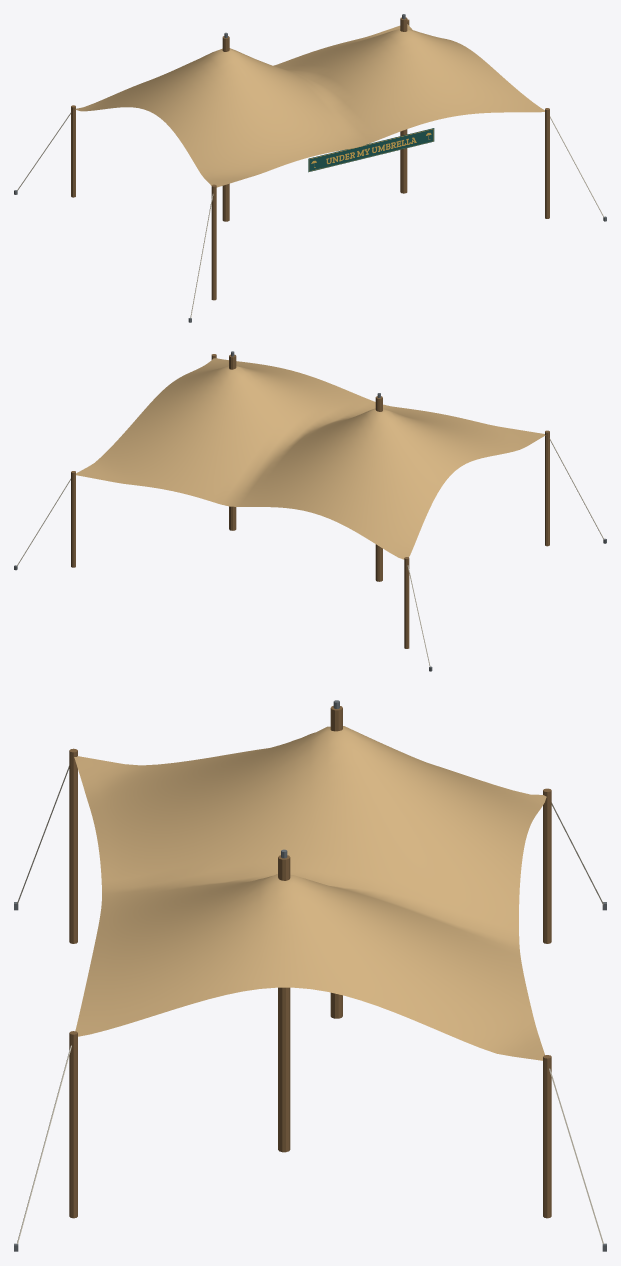
The model's file is lwf_stretch_tent_v1.glb.
3 views of the same model, one above another, from view 1: azimuth 30°, elevation 25°; view 2: azimuth 150°, elevation 25°; view 3: azimuth 270°, elevation 25° (orthographic). The views are drawn at different scales.
Parts seen in each view (by area): view 1: LWF_StretchTent_Sail, LWF_StretchTent_Frame, LWF_StretchTent_Banner; view 2: LWF_StretchTent_Sail, LWF_StretchTent_Frame; view 3: LWF_StretchTent_Sail, LWF_StretchTent_Frame.
Part boxes in pixels (left/top/right/bottom): LWF_StretchTent_Sail: left=75, top=24, right=544, bottom=187; LWF_StretchTent_Frame: left=14, top=14, right=606, bottom=322; LWF_StretchTent_Banner: left=308, top=128, right=434, bottom=172; LWF_StretchTent_Sail: left=76, top=358, right=545, bottom=559; LWF_StretchTent_Frame: left=14, top=351, right=606, bottom=671; LWF_StretchTent_Sail: left=74, top=726, right=546, bottom=1060; LWF_StretchTent_Frame: left=14, top=700, right=606, bottom=1251.
Size of the model in its own units: 9.26 by 3.97 by 6.76.
5 materials, 1 textured.
